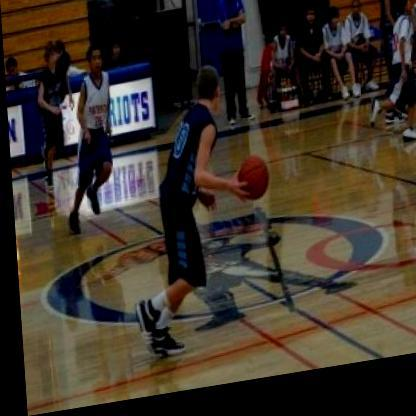basketball: (230, 158, 272, 214)
